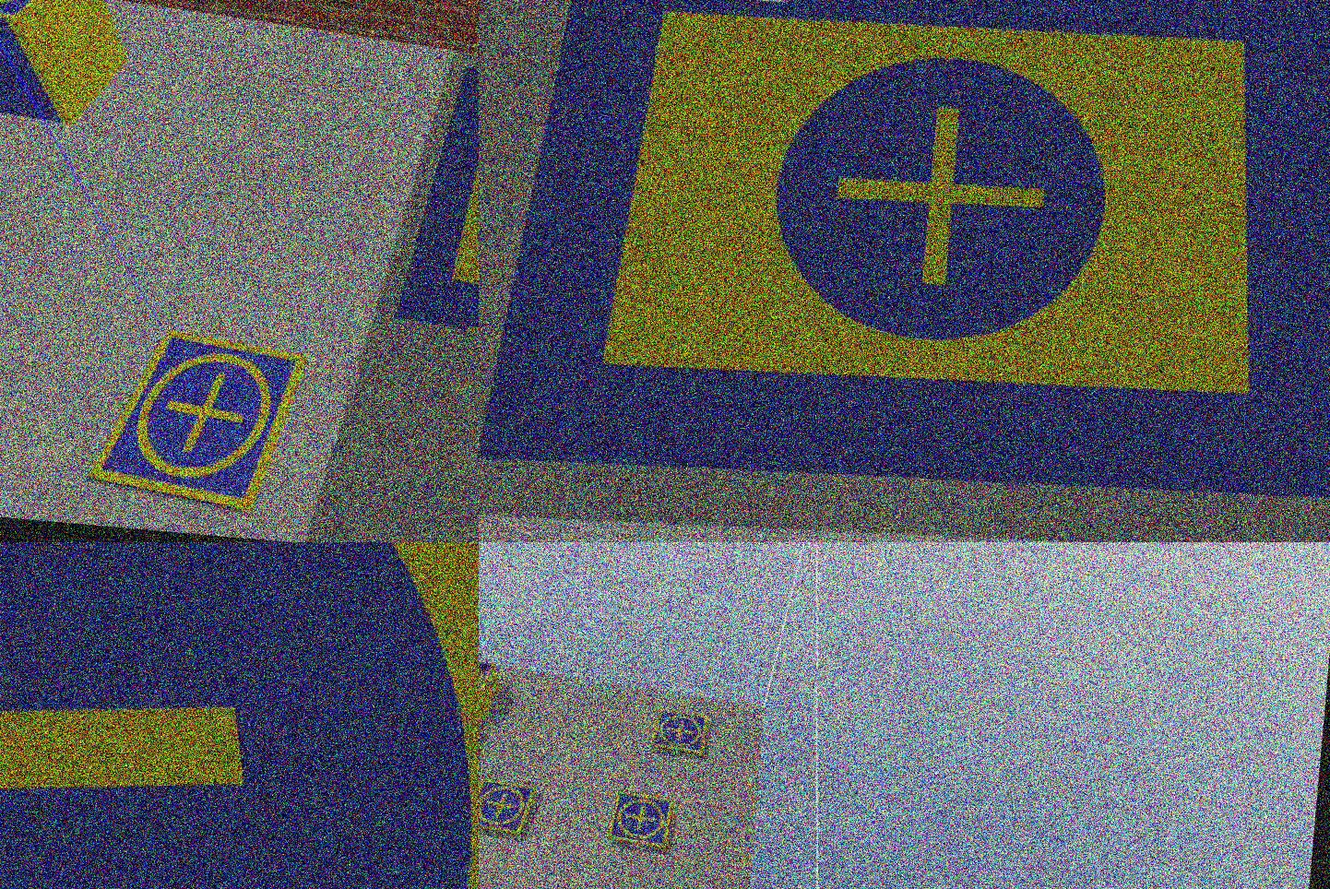large_base: (480, 1, 1330, 535), (1, 542, 480, 889), (394, 56, 480, 371)
small_base: (91, 325, 310, 513), (607, 790, 678, 852), (480, 776, 538, 838), (647, 706, 715, 758), (1, 1, 89, 41), (480, 654, 495, 706)
